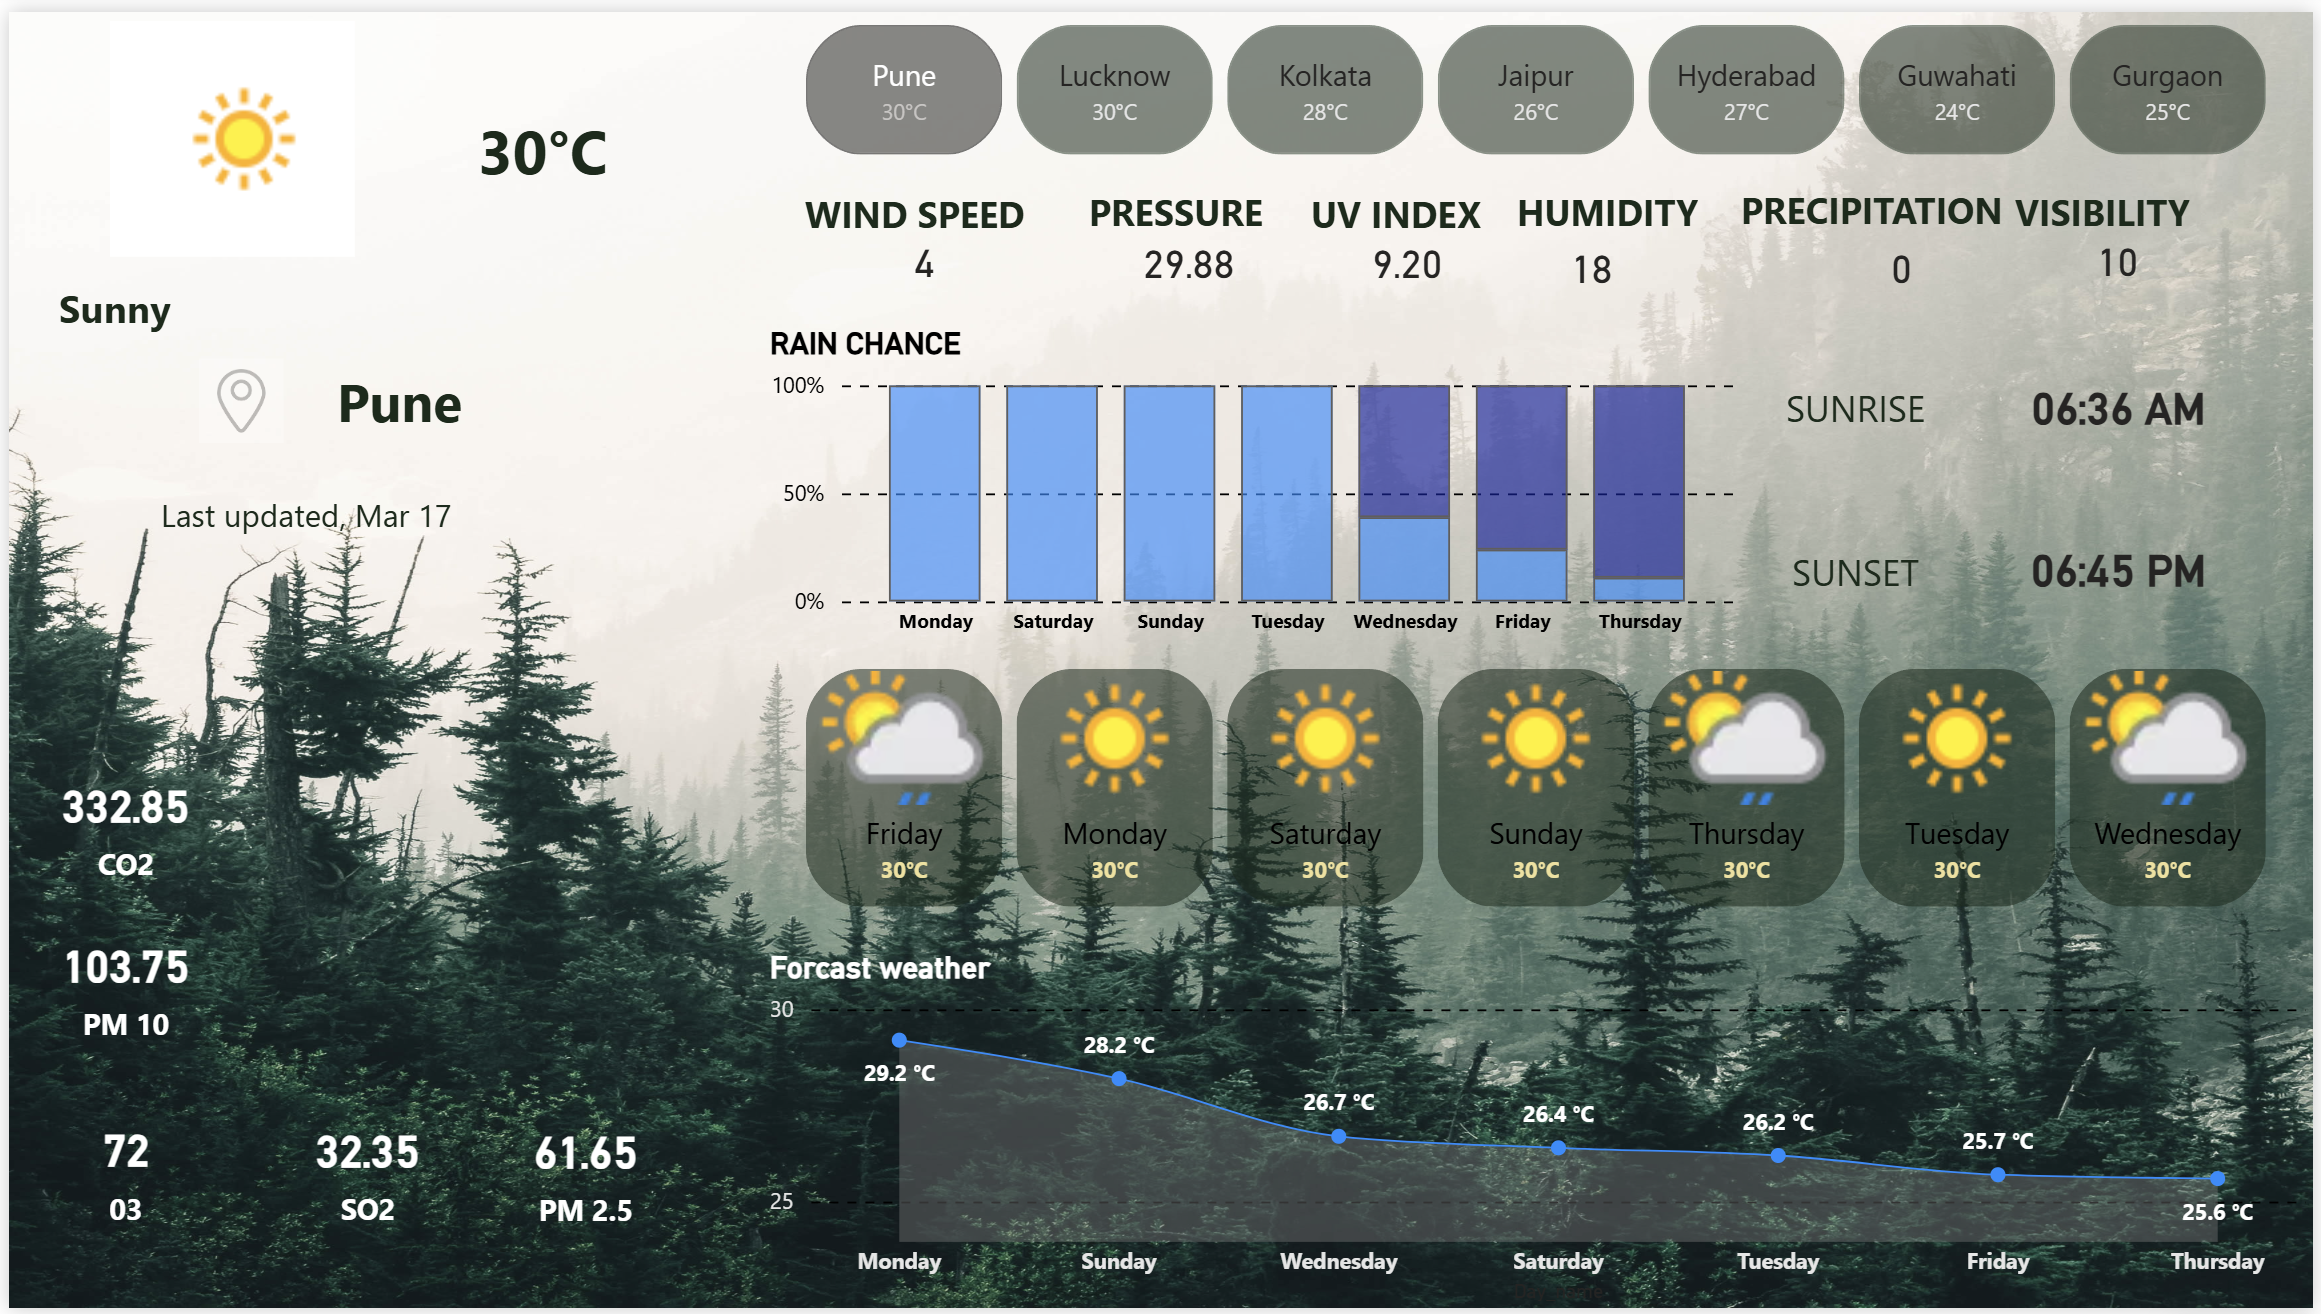

This screenshot's page, from the dashboard's own definition file:
{"tool":"powerbi","page":{"name":"Page 1","canvas":[1280,720],"ordinal":0},"visuals":[{"type":"advancedSlicerVisual","fields":{"Values":["loaction.location.name"],"Label":["_Measures.curr_temp_c"]},"box":[418.2,2.5,861.8,82.9],"z":0},{"type":"shape","box":[146.6,0,102,153],"z":1000},{"type":"shape","box":[7.6,141.5,377.4,51],"z":2000},{"type":"shape","box":[28,244.8,170.8,26.8],"z":3000},{"type":"shape","box":[54.8,192.5,165.7,52.3],"z":4000},{"type":"image","box":[3.8,192.5,47.2,52.3],"z":5000},{"type":"cardVisual","fields":{"Data":["Min(present.current.condition.icon)"]},"box":[0,0,146.6,141.5],"z":6000},{"type":"shape","box":[837.6,84.1,114.7,52.3],"z":7000},{"type":"shape","box":[442.4,85.4,131.3,52.3],"z":8000},{"type":"shape","box":[722.9,85.4,112.2,52.3],"z":9000},{"type":"shape","box":[600.5,84.1,122.4,52.3],"z":10000},{"type":"shape","box":[1114.3,84.1,165.7,52.3],"z":11000},{"type":"card","fields":{"Values":["Sum(present.current.wind_kph)"]},"box":[460.2,118.6,96.9,40.8],"z":12000},{"type":"card","fields":{"Values":["Sum(present.current.humidity)"]},"box":[837.6,128.8,82.9,26.8],"z":13000},{"type":"card","fields":{"Values":["Sum(present.current.pressure_in)"]},"box":[600.5,119.8,110.9,39.5],"z":14000},{"type":"card","fields":{"Values":["Sum(present.current.uv)"]},"box":[722.9,118.6,107.1,42.1],"z":15000},{"type":"card","fields":{"Values":["Sum(present.current.vis_km)"]},"box":[1127,124.9,89.2,28],"z":16000},{"type":"shape","box":[962.5,82.9,151.7,52.3],"z":17000},{"type":"card","fields":{"Values":["Sum(present.current.precip_in)"]},"box":[1000.8,122.4,100.7,40.8],"z":18000},{"type":"lineChart","title":"Forcast weather","fields":{"Y":["Sum(Forcast.forecast.forecastday.day.avgtemp_c)"],"Category":["Forcast.Day_name"]},"box":[442.4,521.4,838.9,200.2],"z":19000},{"type":"advancedSlicerVisual","fields":{"Values":["Forcast.Day_name"],"Label":["Sum(Forcast.forecast.forecastday.day.avgtemp_c)"]},"box":[418.2,359.5,861.8,142.8],"z":20000},{"type":"card","fields":{"Values":["Min(Forcast.sunrise)"]},"box":[1078.6,174.7,186.1,90.5],"z":21000},{"type":"card","fields":{"Values":["Min(Forcast.sunset)"]},"box":[1078.6,260.1,186.1,99.4],"z":22000},{"type":"shape","box":[949.8,193.8,151.7,52.3],"z":23000},{"type":"shape","box":[949.8,284.3,151.7,52.3],"z":24000},{"type":"hundredPercentStackedColumnChart","title":"RAIN CHANCE","fields":{"Category":["Forcast.Day_name"],"Y":["present.RAIN_CHANCE","Sum(Forcast.forecast.forecastday.day.daily_chance_of_rain)"]},"box":[442.4,174.7,520.2,181],"z":25000},{"type":"card","fields":{"Values":["Sum(present.current.air_quality.pm2_5)"]},"box":[255.4,605.7,129.9,75.9],"z":26000},{"type":"card","fields":{"Values":["Sum(present.current.air_quality.so2)"]},"box":[134.3,586.7,129.9,112.4],"z":27000},{"type":"card","fields":{"Values":["Sum(present.current.air_quality.co)"]},"box":[0,413,129.9,75.9],"z":28000},{"type":"card","fields":{"Values":["Sum(present.current.air_quality.o3)"]},"box":[0,605.7,129.9,74.4],"z":29000},{"type":"card","fields":{"Values":["Sum(present.current.air_quality.pm10)"]},"box":[0,502.1,129.9,75.9],"z":30000}]}

Visuals, with their boxes in screenshot pixels (x1, y1, x2, y2), scaled from the page's 1280x720 canvas onto the 2321x1314 screenshot:
advancedSlicerVisual - loaction.location.name x _Measures.curr_temp_c: bbox=(758, 5, 2320, 156)
shape: bbox=(266, 0, 451, 279)
shape: bbox=(14, 258, 698, 351)
shape: bbox=(51, 447, 360, 496)
shape: bbox=(99, 351, 400, 447)
image: bbox=(7, 351, 92, 447)
cardVisual - Min(present.current.condition.icon): bbox=(0, 0, 266, 258)
shape: bbox=(1519, 153, 1727, 249)
shape: bbox=(802, 156, 1040, 251)
shape: bbox=(1311, 156, 1514, 251)
shape: bbox=(1089, 153, 1311, 249)
shape: bbox=(2021, 153, 2320, 249)
card - Sum(present.current.wind_kph): bbox=(834, 216, 1010, 291)
card - Sum(present.current.humidity): bbox=(1519, 235, 1669, 284)
card - Sum(present.current.pressure_in): bbox=(1089, 219, 1290, 291)
card - Sum(present.current.uv): bbox=(1311, 216, 1505, 293)
card - Sum(present.current.vis_km): bbox=(2044, 228, 2205, 279)
shape: bbox=(1745, 151, 2020, 247)
card - Sum(present.current.precip_in): bbox=(1815, 223, 1997, 298)
"Forcast weather" lineChart: bbox=(802, 952, 2320, 1313)
advancedSlicerVisual - Forcast.Day_name x Sum(Forcast.forecast.forecastday.day.avgtemp_c): bbox=(758, 656, 2320, 917)
card - Min(Forcast.sunrise): bbox=(1956, 319, 2293, 484)
card - Min(Forcast.sunset): bbox=(1956, 475, 2293, 656)
shape: bbox=(1722, 354, 1997, 449)
shape: bbox=(1722, 519, 1997, 614)
"RAIN CHANCE" hundredPercentStackedColumnChart: bbox=(802, 319, 1745, 649)
card - Sum(present.current.air_quality.pm2_5): bbox=(463, 1105, 699, 1244)
card - Sum(present.current.air_quality.so2): bbox=(244, 1071, 479, 1276)
card - Sum(present.current.air_quality.co): bbox=(0, 754, 236, 892)
card - Sum(present.current.air_quality.o3): bbox=(0, 1105, 236, 1241)
card - Sum(present.current.air_quality.pm10): bbox=(0, 916, 236, 1055)
